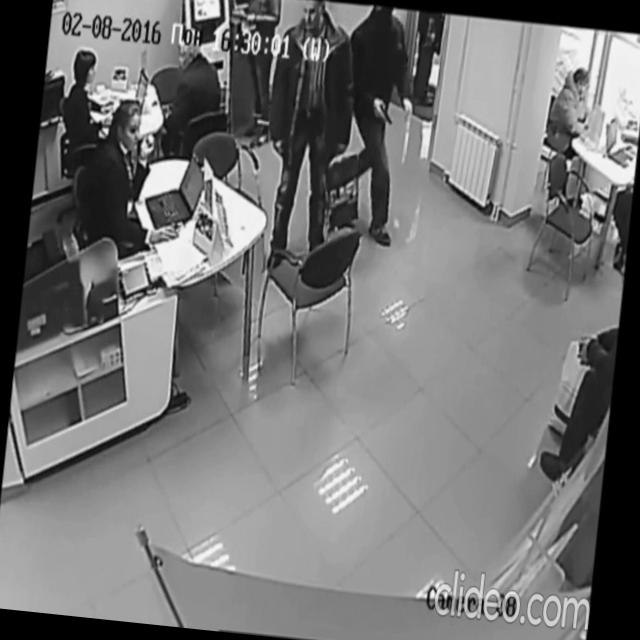gun: (376, 100, 395, 126)
person: (251, 0, 365, 275), (75, 91, 192, 265), (538, 62, 600, 208), (58, 44, 120, 168)
person with a gun: (320, 1, 422, 249)
